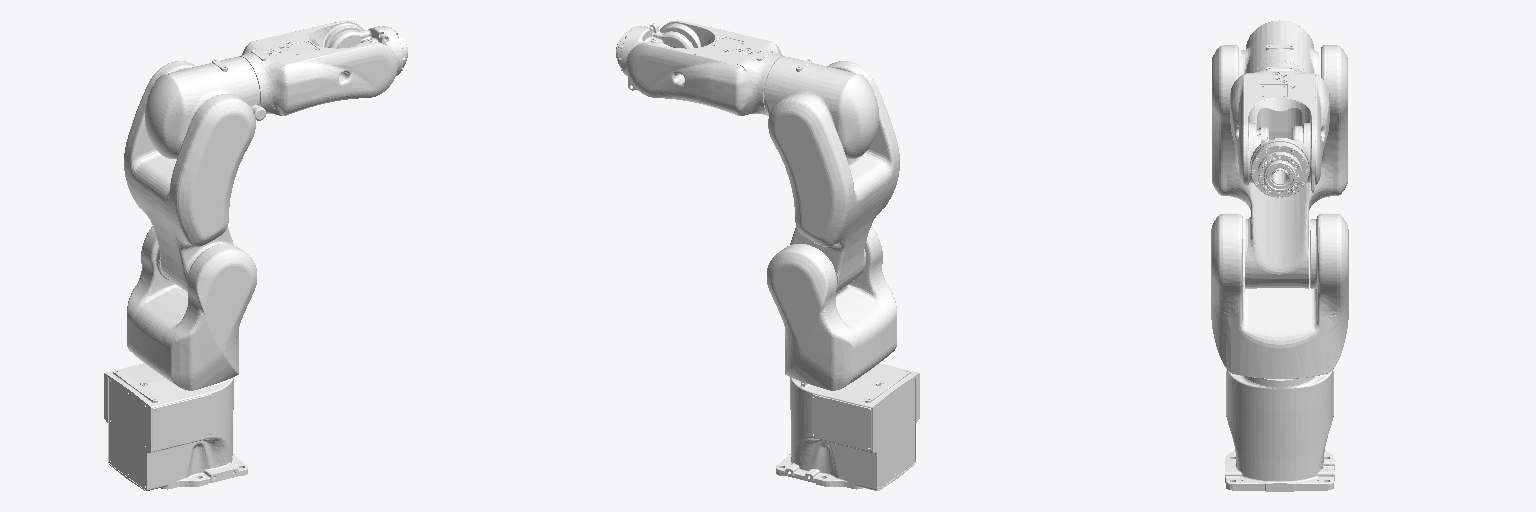
URDF robot description (mz04):
<?xml version="1.0" encoding="utf-8"?>
<!-- This URDF was automatically created by SolidWorks to URDF Exporter! Originally created by [author] ([email redacted]) 
     Commit Version: 1.6.0-4-g7f85cfe  Build Version: 1.6.7995.38578
     For more information, please see http://wiki.ros.org/sw_urdf_exporter -->
<robot
  name="mz04">
  <link
    name="base_link">
    <inertial>
      <origin
        xyz="-0.044759 -3.1086E-05 0.085751"
        rpy="0 0 0" />
      <mass
        value="3.513" />
      <inertia
        ixx="0.01237"
        ixy="4.9095E-06"
        ixz="-0.00013226"
        iyy="0.015585"
        iyz="-1.7141E-05"
        izz="0.013462" />
    </inertial>
    <visual>
      <origin
        xyz="0 0 0"
        rpy="0 0 0" />
      <geometry>
        <mesh
          filename="package://mz04/meshes/base_link.STL" />
      </geometry>
      <material
        name="">
        <color
          rgba="1 1 1 1" />
      </material>
    </visual>
    <collision>
      <origin
        xyz="0 0 0"
        rpy="0 0 0" />
      <geometry>
        <mesh
          filename="package://mz04/meshes/base_link.STL" />
      </geometry>
    </collision>
  </link>
  <link
    name="Link1">
    <inertial>
      <origin
        xyz="-0.019703 0.00093833 0.086517"
        rpy="0 0 0" />
      <mass
        value="3.292" />
      <inertia
        ixx="0.022229"
        ixy="-6.0946E-05"
        ixz="-0.0017533"
        iyy="0.015417"
        iyz="-0.00025811"
        izz="0.015073" />
    </inertial>
    <visual>
      <origin
        xyz="0 0 0"
        rpy="0 0 0" />
      <geometry>
        <mesh
          filename="package://mz04/meshes/Link1.STL" />
      </geometry>
      <material
        name="">
        <color
          rgba="1 1 1 1" />
      </material>
    </visual>
    <collision>
      <origin
        xyz="0 0 0"
        rpy="0 0 0" />
      <geometry>
        <mesh
          filename="package://mz04/meshes/Link1.STL" />
      </geometry>
    </collision>
  </link>
  <joint
    name="J1"
    type="revolute">
    <origin
      xyz="0 0 0.17"
      rpy="0 0 0" />
    <parent
      link="base_link" />
    <child
      link="Link1" />
    <axis
      xyz="0 0 -1" />
    <limit
      lower="-2.97"
      upper="2.97"
      effort="100"
      velocity="1" />
  </joint>
  <link
    name="Link2">
    <inertial>
      <origin
        xyz="-0.022943 -0.12931 -0.0008574"
        rpy="0 0 0" />
      <mass
        value="3.4334" />
      <inertia
        ixx="0.037485"
        ixy="-0.00057779"
        ixz="6.6852E-05"
        iyy="0.014046"
        iyz="0.00037774"
        izz="0.030147" />
    </inertial>
    <visual>
      <origin
        xyz="0 0 0"
        rpy="0 0 0" />
      <geometry>
        <mesh
          filename="package://mz04/meshes/Link2.STL" />
      </geometry>
      <material
        name="">
        <color
          rgba="1 1 1 1" />
      </material>
    </visual>
    <collision>
      <origin
        xyz="0 0 0"
        rpy="0 0 0" />
      <geometry>
        <mesh
          filename="package://mz04/meshes/Link2.STL" />
      </geometry>
    </collision>
  </link>
  <joint
    name="J2"
    type="revolute">
    <origin
      xyz="0 0 0.17"
      rpy="-1.5708 0 0" />
    <parent
      link="Link1" />
    <child
      link="Link2" />
    <axis
      xyz="0 0 1" />
    <limit
      lower="-2.53"
      upper="1.57"
      effort="100"
      velocity="1" />
  </joint>
  <link
    name="Link3">
    <inertial>
      <origin
        xyz="-0.0002808 -0.0055748 -0.0002648"
        rpy="0 0 0" />
      <mass
        value="1.7578" />
      <inertia
        ixx="0.0032265"
        ixy="0.00019114"
        ixz="5.2542E-06"
        iyy="0.0032168"
        iyz="-1.2185E-06"
        izz="0.0039061" />
    </inertial>
    <visual>
      <origin
        xyz="0 0 0"
        rpy="0 0 0" />
      <geometry>
        <mesh
          filename="package://mz04/meshes/Link3.STL" />
      </geometry>
      <material
        name="">
        <color
          rgba="1 1 1 1" />
      </material>
    </visual>
    <collision>
      <origin
        xyz="0 0 0"
        rpy="0 0 0" />
      <geometry>
        <mesh
          filename="package://mz04/meshes/Link3.STL" />
      </geometry>
    </collision>
  </link>
  <joint
    name="J3"
    type="revolute">
    <origin
      xyz="0 -0.26 0"
      rpy="0 0 0" />
    <parent
      link="Link2" />
    <child
      link="Link3" />
    <axis
      xyz="0 0 -1" />
    <limit
      lower="-2.18"
      upper="4.88"
      effort="100"
      velocity="1" />
  </joint>
  <link
    name="Link4">
    <inertial>
      <origin
        xyz="-0.0033404 0.00014789 -0.10747"
        rpy="0 0 0" />
      <mass
        value="1.3232" />
      <inertia
        ixx="0.0059296"
        ixy="-3.8706E-07"
        ixz="-2.9647E-05"
        iyy="0.0054197"
        iyz="-6.0665E-06"
        izz="0.0020314" />
    </inertial>
    <visual>
      <origin
        xyz="0 0 0"
        rpy="0 0 0" />
      <geometry>
        <mesh
          filename="package://mz04/meshes/Link4.STL" />
      </geometry>
      <material
        name="">
        <color
          rgba="1 1 1 1" />
      </material>
    </visual>
    <collision>
      <origin
        xyz="0 0 0"
        rpy="0 0 0" />
      <geometry>
        <mesh
          filename="package://mz04/meshes/Link4.STL" />
      </geometry>
    </collision>
  </link>
  <joint
    name="J4"
    type="revolute">
    <origin
      xyz="0.28 -0.025 0"
      rpy="1.5708 0 1.5708" />
    <parent
      link="Link3" />
    <child
      link="Link4" />
    <axis
      xyz="0 0 -1" />
    <limit
      lower="-3.32"
      upper="3.32"
      effort="100"
      velocity="1" />
  </joint>
  <link
    name="Link5">
    <inertial>
      <origin
        xyz="-8.6841E-06 5.4256E-06 -0.045863"
        rpy="0 0 0" />
      <mass
        value="1.1274E-05" />
      <inertia
        ixx="3.8792E-10"
        ixy="-5.826E-12"
        ixz="7.4597E-16"
        iyy="3.9514E-10"
        iyz="-4.3813E-15"
        izz="7.8265E-10" />
    </inertial>
    <visual>
      <origin
        xyz="0 0 0"
        rpy="0 0 0" />
      <geometry>
        <mesh
          filename="package://mz04/meshes/Link5.STL" />
      </geometry>
      <material
        name="">
        <color
          rgba="1 1 1 1" />
      </material>
    </visual>
    <collision>
      <origin
        xyz="0 0 0"
        rpy="0 0 0" />
      <geometry>
        <mesh
          filename="package://mz04/meshes/Link5.STL" />
      </geometry>
    </collision>
  </link>
  <joint
    name="J5"
    type="revolute">
    <origin
      xyz="0 0 0"
      rpy="1.5708 -1.5708 0" />
    <parent
      link="Link4" />
    <child
      link="Link5" />
    <axis
      xyz="0 0 1" />
    <limit
      lower="-2.09"
      upper="2.09"
      effort="100"
      velocity="1" />
  </joint>
  <link
    name="Link6">
    <inertial>
      <origin
        xyz="-0.00020474 -5.6356E-05 0.068551"
        rpy="0 0 0" />
      <mass
        value="0.034007" />
      <inertia
        ixx="8.7249E-06"
        ixy="5.054E-08"
        ixz="7.4434E-09"
        iyy="8.5826E-06"
        iyz="2.1149E-09"
        izz="1.6179E-05" />
    </inertial>
    <visual>
      <origin
        xyz="0 0 0"
        rpy="0 0 0" />
      <geometry>
        <mesh
          filename="package://mz04/meshes/Link6.STL" />
      </geometry>
      <material
        name="">
        <color
          rgba="1 1 1 1" />
      </material>
    </visual>
    <collision>
      <origin
        xyz="0 0 0"
        rpy="0 0 0" />
      <geometry>
        <mesh
          filename="package://mz04/meshes/Link6.STL" />
      </geometry>
    </collision>
  </link>
  <joint
    name="J6"
    type="revolute">
    <origin
      xyz="0 0 0"
      rpy="1.5708 0 1.5708" />
    <parent
      link="Link5" />
    <child
      link="Link6" />
    <axis
      xyz="0 0 -1" />
    <limit
      lower="-6.28"
      upper="6.28"
      effort="100"
      velocity="1" />
  </joint>
  <link
    name="Tool">
    <inertial>
      <origin
        xyz="-0.00020474 -5.6356E-05 -0.0034494"
        rpy="0 0 0" />
      <mass
        value="0.034007" />
      <inertia
        ixx="8.7249E-06"
        ixy="5.054E-08"
        ixz="7.4434E-09"
        iyy="8.5826E-06"
        iyz="2.1149E-09"
        izz="1.6179E-05" />
    </inertial>
    <visual>
      <origin
        xyz="0 0 0"
        rpy="0 0 0" />
      <geometry>
        <mesh
          filename="package://mz04/meshes/Tool.STL" />
      </geometry>
      <material
        name="">
        <color
          rgba="1 1 1 1" />
      </material>
    </visual>
    <collision>
      <origin
        xyz="0 0 0"
        rpy="0 0 0" />
      <geometry>
        <mesh
          filename="package://mz04/meshes/Tool.STL" />
      </geometry>
    </collision>
  </link>
  <joint
    name="J7"
    type="fixed">
    <origin
      xyz="0 0 0.072"
      rpy="0 0 0" />
    <parent
      link="Link6" />
    <child
      link="Tool" />
    <axis
      xyz="0 0 0" />
  </joint>
</robot>

--- Render facts (derived) ---
The picture shows the robot from 3 angles, left to right: view 1: azimuth 30°, elevation 25°; view 2: azimuth 150°, elevation 25°; view 3: azimuth 270°, elevation 25°; orthographic projection.
Robot: mz04 — 8 links, 7 joints (6 revolute, 1 fixed); root link base_link; default pose: every joint at zero.
Links seen in each view (by area): view 1: Link2, Link1, base_link, Link4, Link3, Link5; view 2: Link2, Link1, base_link, Link4, Link3, Link5; view 3: Link1, Link2, base_link, Link4, Link3, Link5, Link6.
Link boxes in pixels (left/top/right/bottom): Link2: left=124, top=61, right=255, bottom=292; Link1: left=127, top=226, right=256, bottom=390; base_link: left=104, top=363, right=247, bottom=490; Link4: left=240, top=20, right=397, bottom=115; Link3: left=145, top=56, right=265, bottom=158; Link5: left=328, top=26, right=404, bottom=75; Link2: left=768, top=61, right=899, bottom=292; Link1: left=767, top=226, right=896, bottom=390; base_link: left=776, top=363, right=919, bottom=490; Link4: left=626, top=20, right=783, bottom=115; Link3: left=764, top=56, right=878, bottom=158; Link5: left=619, top=23, right=693, bottom=75; Link1: left=1211, top=214, right=1348, bottom=378; Link2: left=1212, top=45, right=1347, bottom=288; base_link: left=1225, top=369, right=1334, bottom=491; Link4: left=1230, top=61, right=1329, bottom=192; Link3: left=1241, top=20, right=1318, bottom=74; Link5: left=1250, top=126, right=1309, bottom=197; Link6: left=1258, top=152, right=1301, bottom=194.
Size in the robot's own frame: 0.49 by 0.1901 by 0.674 metres.
Meshes: 8 distinct files referenced, 8 mesh visuals loaded (8 binary STL).
